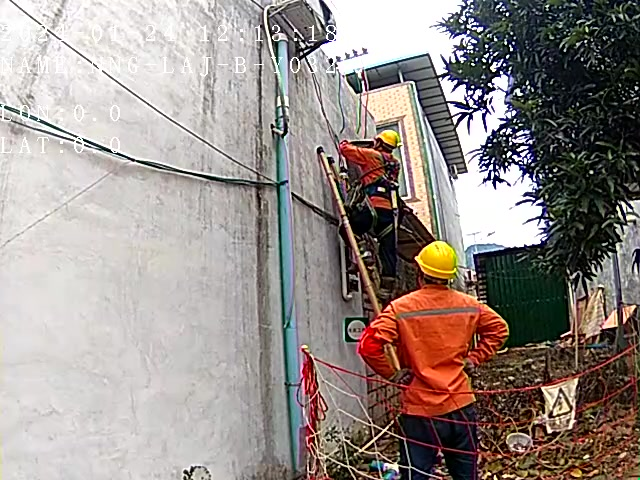halt: (416, 244, 460, 288), (373, 133, 401, 159)
